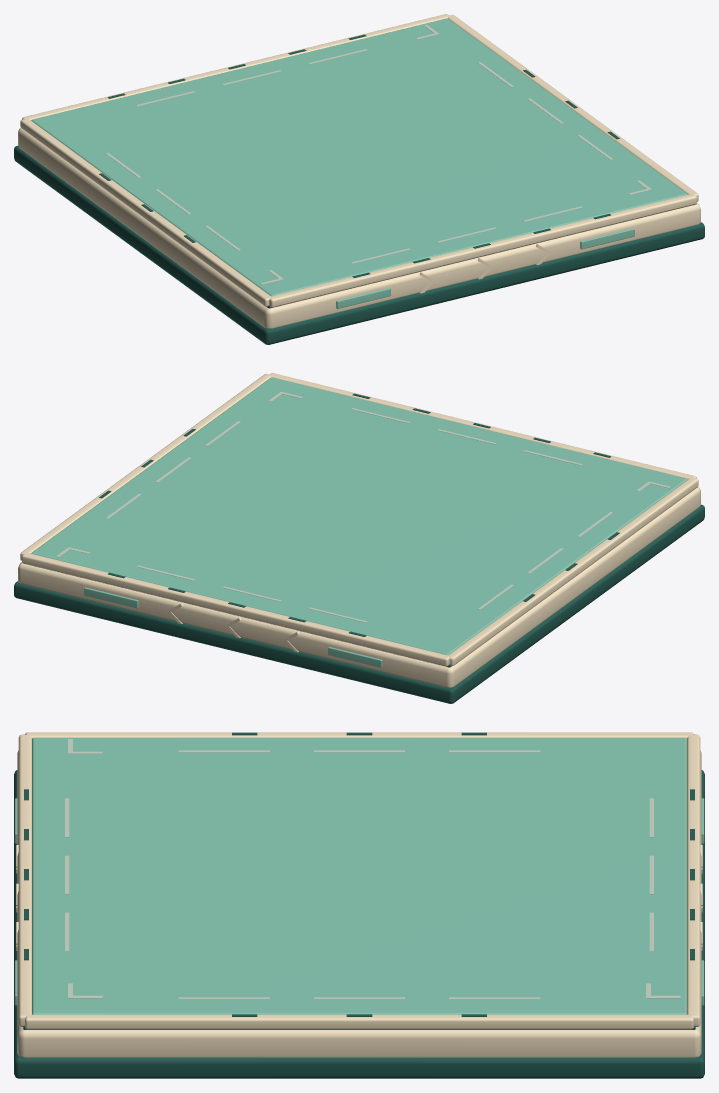
File: athlete_tile_mint.glb
The picture shows the model from 3 angles, top to bottom: view 1: azimuth 30°, elevation 25°; view 2: azimuth 150°, elevation 25°; view 3: azimuth 270°, elevation 25°; orthographic projection. The views are drawn at different scales.
Parts seen in each view (by area): view 1: athlete_tile_mint__surface_mint, athlete_tile_mint__cream, athlete_tile_mint__ink, athlete_tile_mint__line; view 2: athlete_tile_mint__surface_mint, athlete_tile_mint__cream, athlete_tile_mint__ink, athlete_tile_mint__line; view 3: athlete_tile_mint__surface_mint, athlete_tile_mint__cream, athlete_tile_mint__ink, athlete_tile_mint__line.
Boxes of the visible parts, x1,y1,x2,y2 form: athlete_tile_mint__surface_mint: (31,18,687,308); athlete_tile_mint__cream: (18,14,700,328); athlete_tile_mint__ink: (14,34,704,344); athlete_tile_mint__line: (105,24,651,284); athlete_tile_mint__surface_mint: (31,377,687,667); athlete_tile_mint__cream: (18,373,700,687); athlete_tile_mint__ink: (14,393,704,703); athlete_tile_mint__line: (56,391,670,622); athlete_tile_mint__surface_mint: (14,737,704,1014); athlete_tile_mint__cream: (16,732,702,1057); athlete_tile_mint__ink: (14,732,704,1078); athlete_tile_mint__line: (65,739,680,999).
Size of the model in its own units: 2.05 by 0.197 by 2.05.
